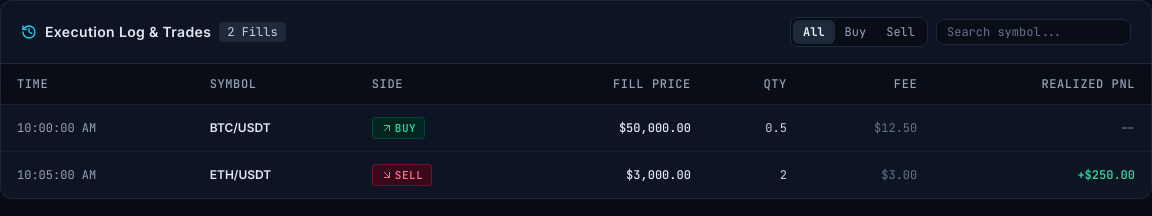
Scenario: TradeLog Component › filters executions by search query
The image size is (1152, 216).
Type "ETH" into the field with test id "trade-search-input" at coordinates (1034, 32), box [936, 19, 1131, 45]
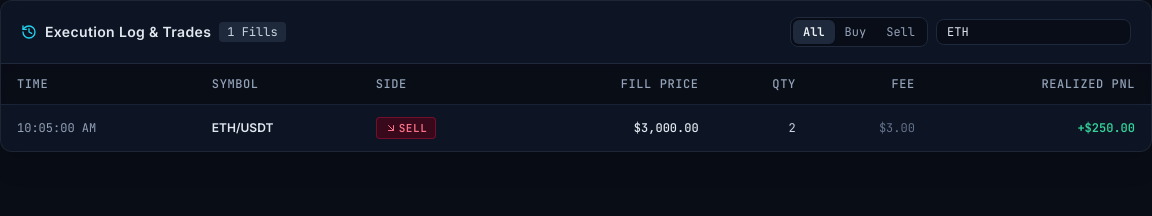
Expected: the row with test id "trade-row-f-2" is shown, [1, 104, 1151, 151]
Expected: the row with test id "trade-row-f-1" is gone
